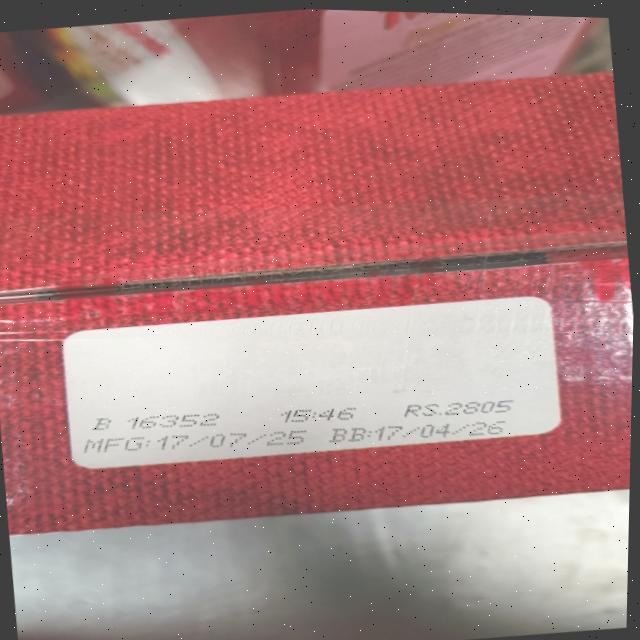BB: (329, 410, 512, 452)
Batch: (87, 404, 225, 437)
MFG: (77, 415, 309, 471)
RS: (401, 393, 518, 423)
TimeStamp: (279, 402, 361, 427)
